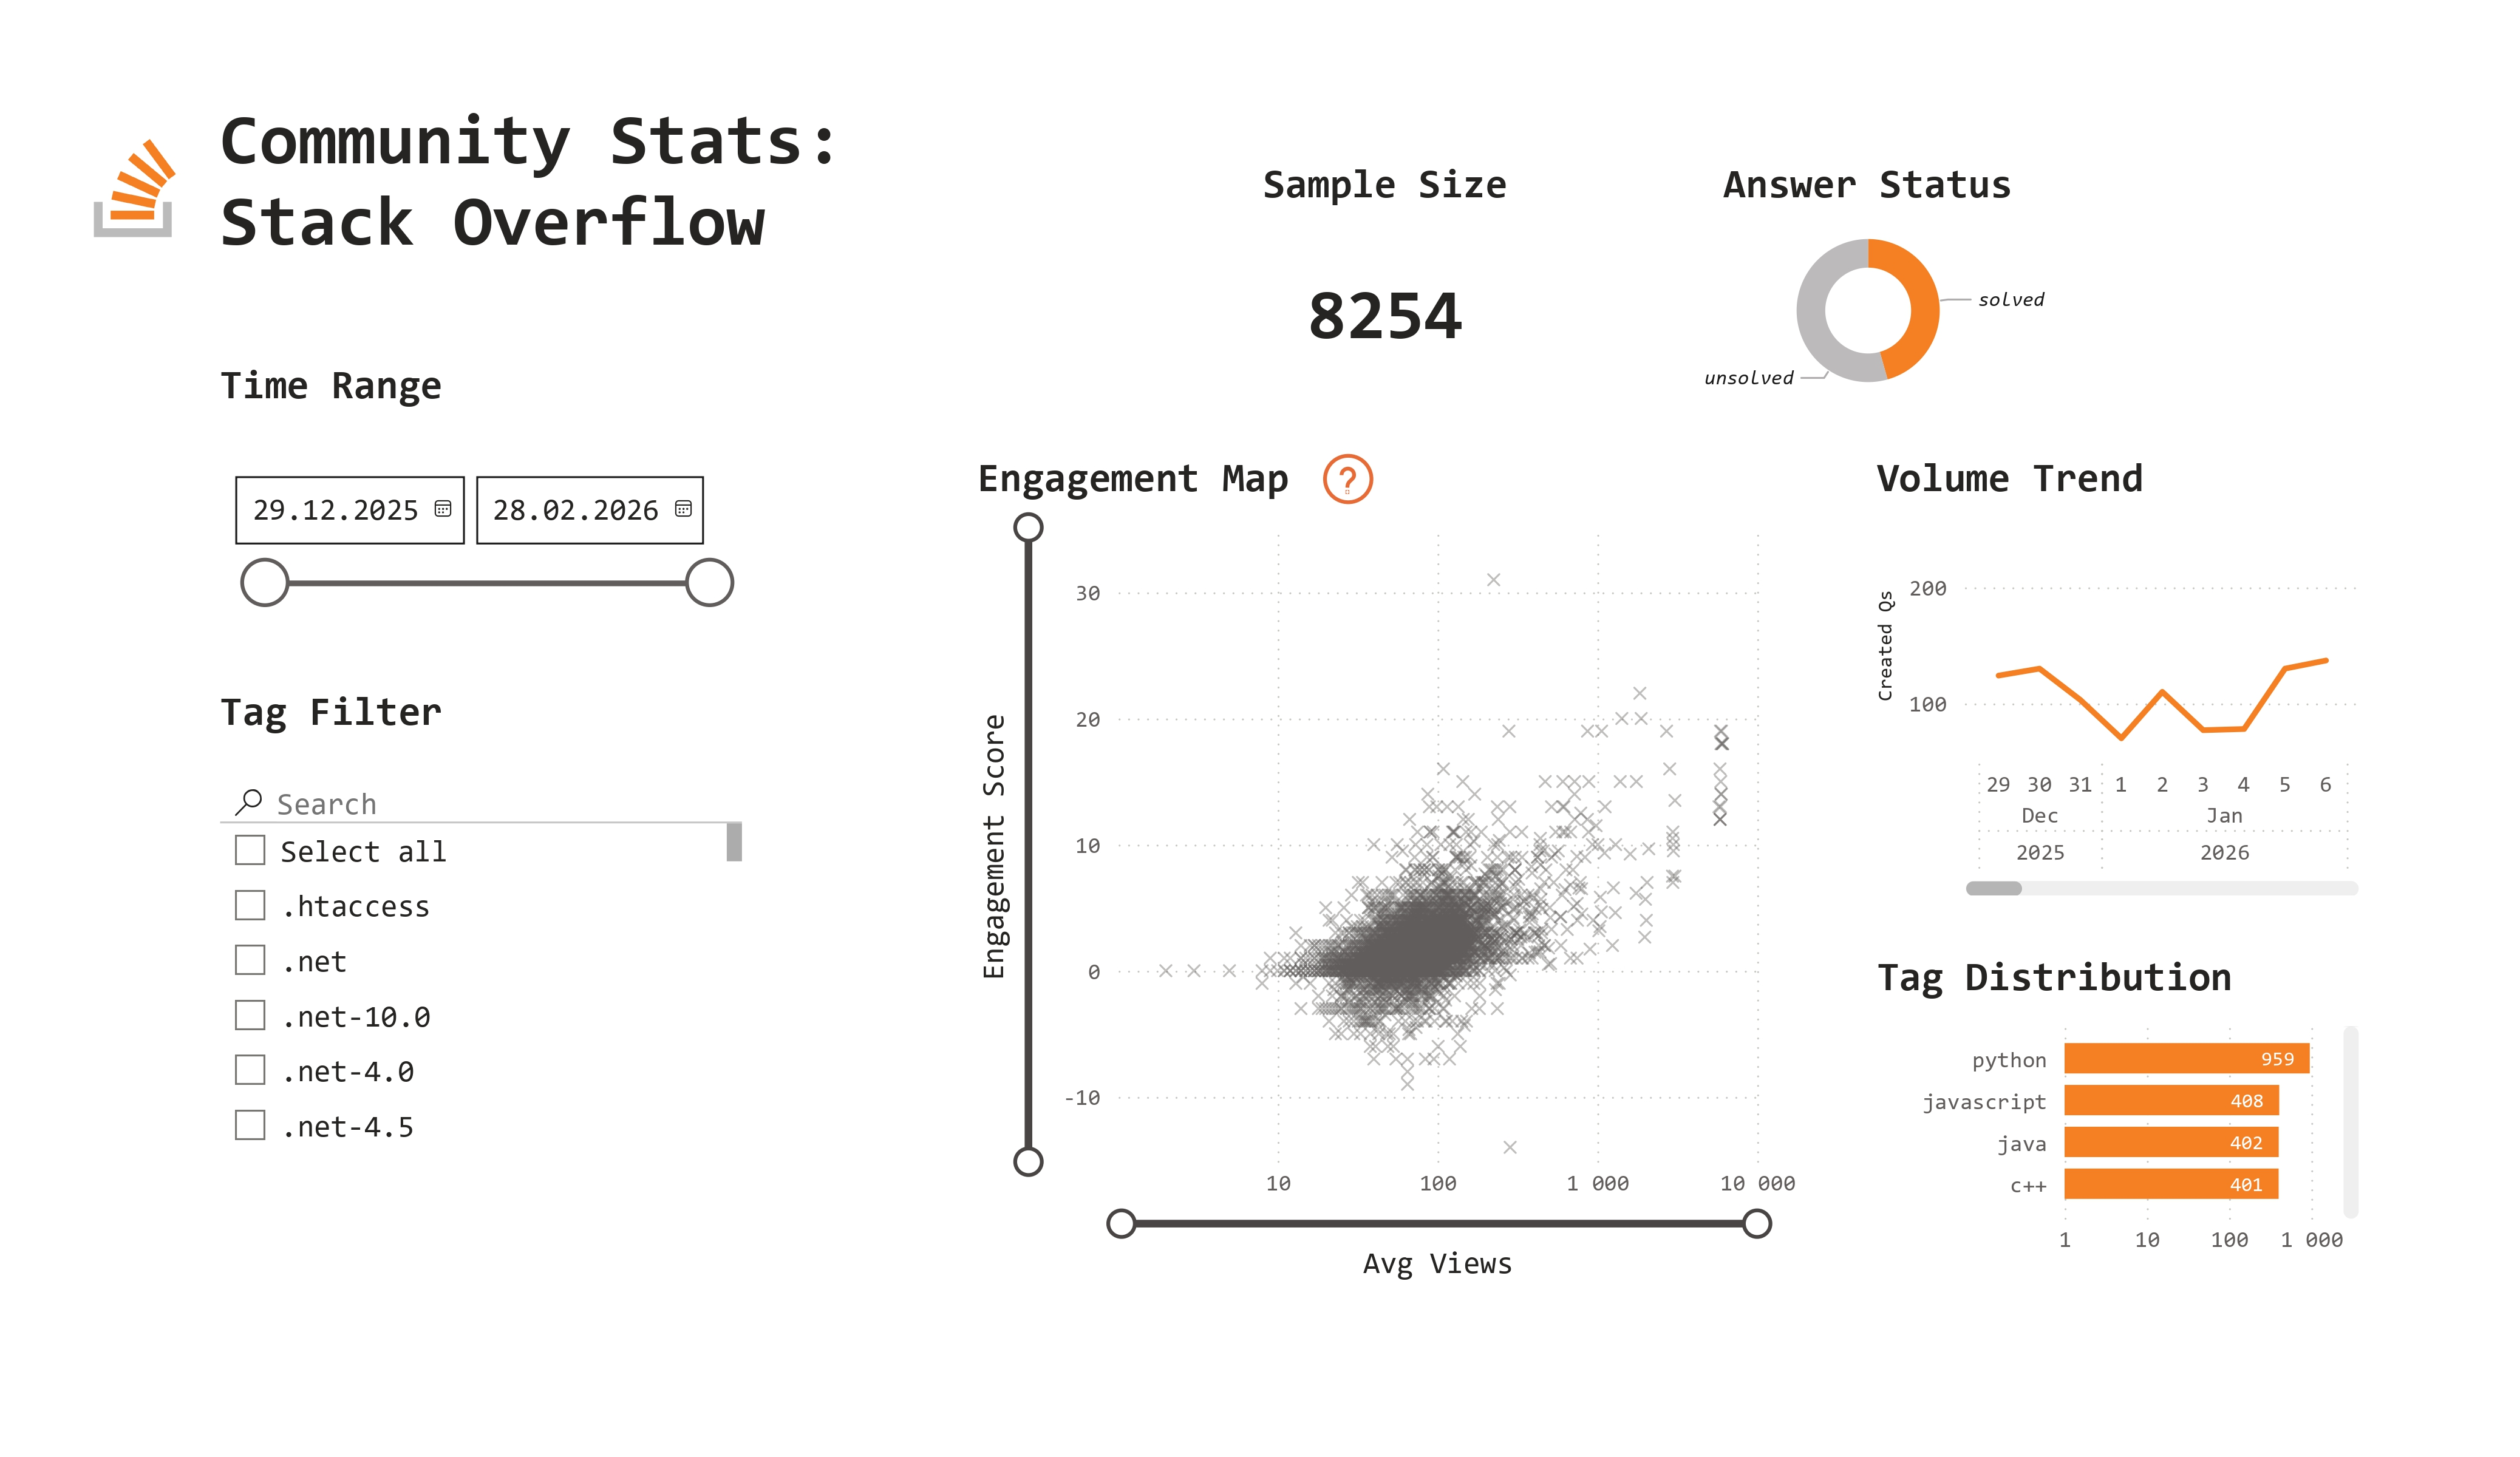

What the dashboard file says about the page in this screenshot:
{"tool":"powerbi","page":{"name":"main","canvas":[1280,720],"ordinal":0},"visuals":[{"type":"card","title":"Sample Size","fields":{"Values":["_Measures.Total Questions"]},"box":[620,59.7,171.7,133.3],"z":0},{"type":"clusteredBarChart","title":"Tag Distribution","fields":{"Category":["bridge_question_tags.tag_name"],"Y":["_Measures.Total Questions"]},"box":[960.3,477.7,263.7,167.9],"z":1000},{"type":"lineChart","title":"Volume Trend","fields":{"Y":["_Measures.Total Questions"],"Category":["DimDate.Date Hierarchy.Year","DimDate.Date Hierarchy.Month Name","DimDate.Date Hierarchy.Day"]},"box":[960.3,215.2,263.7,237.6],"z":2000},{"type":"scatterChart","title":"Engagement Map","fields":{"Category":["bridge_question_tags.tag_name"],"X":["_Measures.Avg Views per Question"],"Y":["_Measures.Engagement Score"]},"box":[486.4,215.2,440.4,437.9],"z":3000},{"type":"donutChart","title":"Answer Status","fields":{"Y":["_Measures.Total Questions"],"Series":["fact_questions.Answer Status"]},"box":[852.1,59.7,216.4,133.1],"z":4000},{"type":"slicer","title":"Time Range","fields":{"Values":["DimDate.Date"]},"box":[87,166.2,284.4,132.4],"z":5000},{"type":"slicer","title":"Tag Filter","fields":{"Values":["bridge_question_tags.tag_name"]},"box":[86.7,338.3,285,248.3],"z":6000},{"type":"textbox","box":[86.7,23.3,400,103.3],"z":7000},{"type":"image","box":[21.4,47.1,51.4,55.7],"z":8000},{"type":"actionButton","box":[668.2,210,38.2,37.3],"z":9000},{"type":"card","fields":{"Values":["_Measures.Blank for Tooltip"]},"box":[668.5,210,38.5,36.9],"z":10000}]}

Visuals, with their boxes on the page's 1280x720 design canvas (x1, y1, x2, y2). These are canvas units, not pixel positions in the 2520x1457 screenshot, which may show the page scaled, cropped or inside an application window:
"Sample Size" card: (620, 60, 792, 193)
"Tag Distribution" clusteredBarChart: (960, 478, 1224, 646)
"Volume Trend" lineChart: (960, 215, 1224, 453)
"Engagement Map" scatterChart: (486, 215, 927, 653)
"Answer Status" donutChart: (852, 60, 1068, 193)
"Time Range" slicer: (87, 166, 371, 299)
"Tag Filter" slicer: (87, 338, 372, 587)
textbox: (87, 23, 487, 127)
image: (21, 47, 73, 103)
actionButton: (668, 210, 706, 247)
card - _Measures.Blank for Tooltip: (668, 210, 707, 247)
